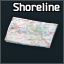Shoreline plan map: (0, 0, 64, 64)
